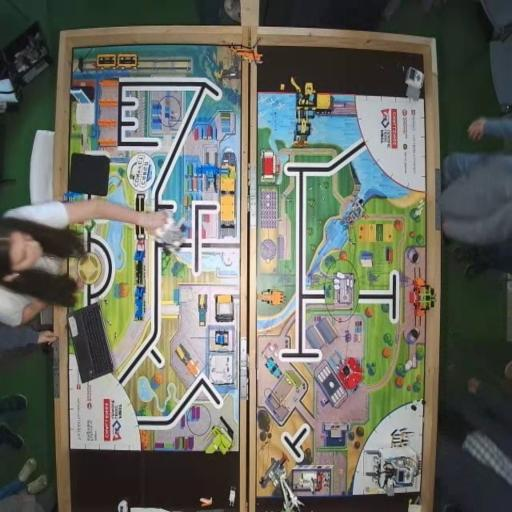lego_robot: (364, 450, 420, 496), (154, 212, 188, 257)
